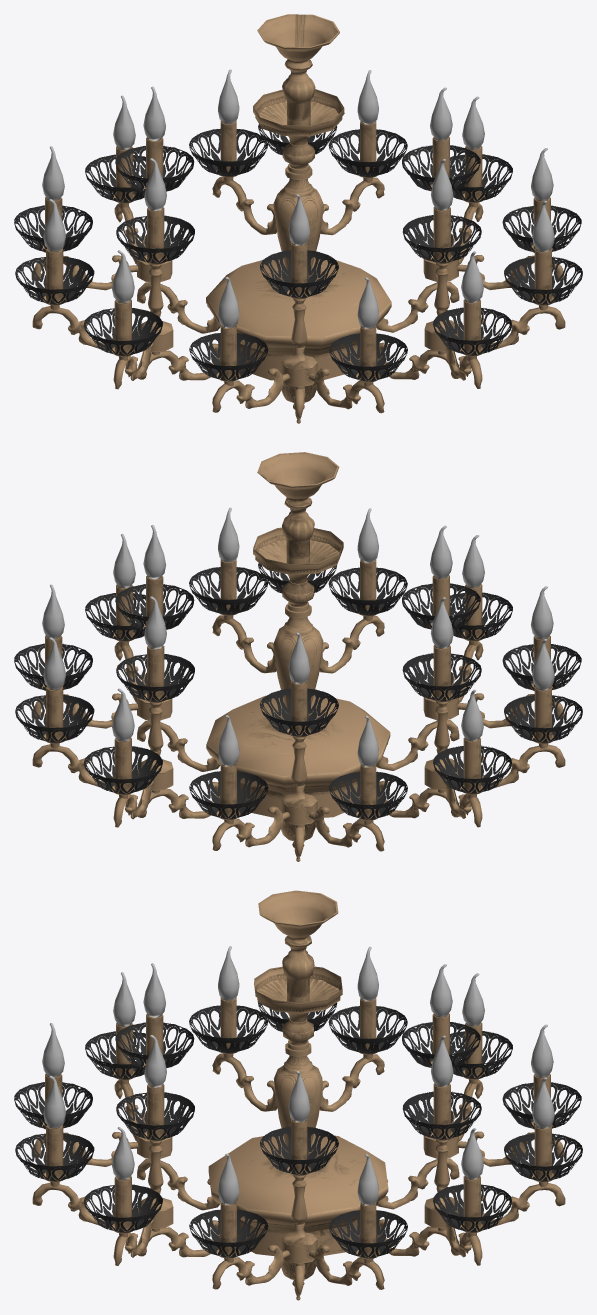
Rendered from Chandelier_03_4k.fbx.
3 views of the same model, one above another, from view 1: azimuth 30°, elevation 25°; view 2: azimuth 150°, elevation 25°; view 3: azimuth 270°, elevation 25° (orthographic).
Visible parts, largest first — view 1: Chandelier_03; view 2: Chandelier_03; view 3: Chandelier_03.
Part boxes in pixels (x1,y1,x2,y2): Chandelier_03: [14, 14, 582, 423]; Chandelier_03: [14, 452, 582, 861]; Chandelier_03: [14, 890, 582, 1300].
Size of the model in its own units: 0.7778 by 0.5963 by 0.7842.
